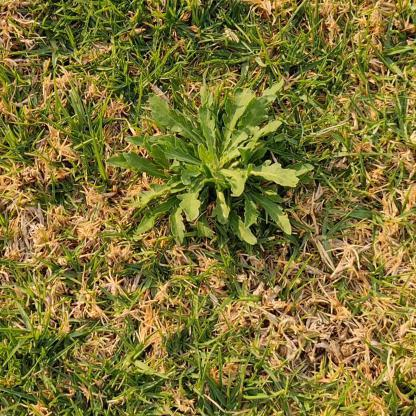Weeds: (103, 80, 315, 253)
